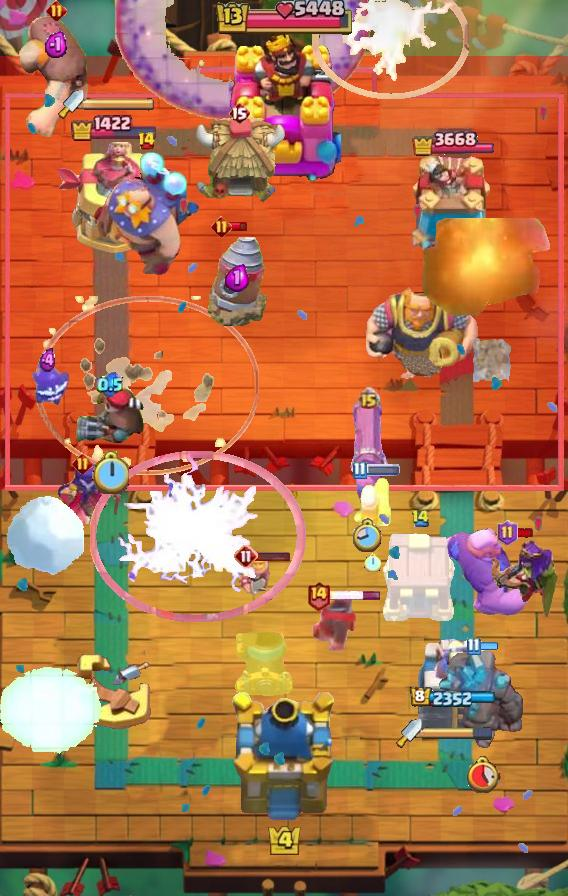archer: (236, 553, 282, 597)
axe: (56, 462, 140, 524)
balloon: (18, 0, 94, 140), (438, 526, 532, 618)
bar: (55, 142, 173, 256), (416, 637, 490, 731)
barbarian-evolution: (90, 449, 307, 622), (312, 0, 469, 100)
barbarian-hut: (482, 536, 562, 624)
battle-healer: (345, 401, 391, 505)
bomb: (380, 530, 460, 624)
cannoneer-tower: (437, 650, 527, 752)
clock: (213, 0, 355, 38)
electro-spirit: (44, 31, 69, 59), (97, 372, 123, 398), (225, 264, 249, 292), (39, 348, 57, 373)
elixir: (91, 451, 129, 494), (464, 755, 501, 793), (353, 518, 383, 554), (364, 553, 381, 571)
emote: (330, 591, 383, 602), (364, 464, 400, 476), (255, 550, 291, 562), (516, 527, 535, 539), (228, 220, 248, 231), (478, 640, 498, 651)
firecracker: (311, 593, 357, 651)
fisherman: (469, 336, 513, 382)
giant-skeleton: (364, 282, 480, 382)
guard: (36, 297, 259, 476)
king-tower: (227, 29, 341, 181), (227, 692, 341, 826)
king-tower-bar: (84, 97, 156, 111), (422, 726, 494, 740)
little-prince: (93, 151, 199, 277)
magic-archer: (204, 232, 270, 330)
mega-knight: (0, 665, 103, 759)
musketeer: (235, 632, 295, 696)
phoenix-small: (73, 386, 147, 448)
prince: (192, 115, 286, 205)
queen-tower: (407, 156, 499, 256)
rocket: (115, 0, 371, 123)
selected: (412, 128, 494, 160), (69, 114, 158, 142), (410, 687, 496, 709)
spear-goblin: (26, 361, 70, 409)
text: (305, 581, 330, 612), (234, 544, 258, 568), (497, 520, 518, 546), (356, 386, 379, 409), (228, 101, 250, 125), (211, 215, 233, 237), (71, 453, 92, 475), (46, 0, 67, 20), (136, 131, 155, 151), (411, 509, 430, 527), (353, 461, 367, 480), (467, 637, 481, 655)
tombstone: (351, 475, 393, 533)
valkyrie: (408, 218, 564, 326)
wall-breaker: (4, 494, 86, 576)
